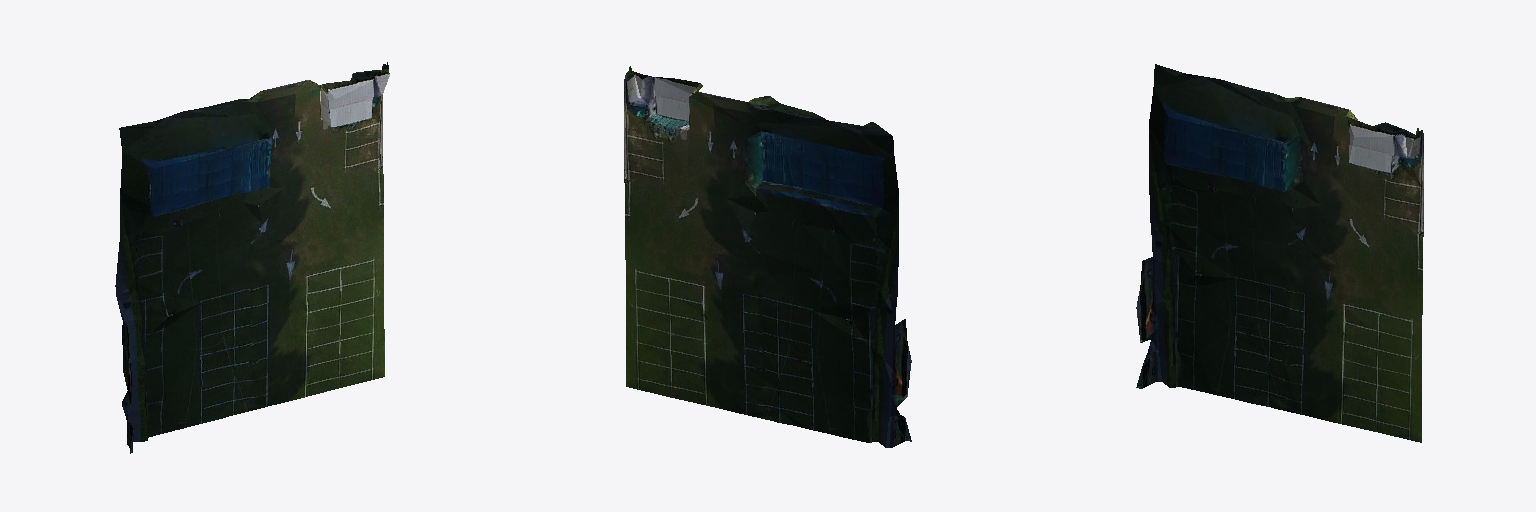
3 renders of one model, left to right at view 1: azimuth 30°, elevation 25°; view 2: azimuth 150°, elevation 25°; view 3: azimuth 330°, elevation 25°, orthographic.
Visible parts, largest first — view 1: obj_0; view 2: obj_0; view 3: obj_0.
Part boxes in pixels (x1,y1,x2,y2): obj_0: (115, 62, 389, 453); obj_0: (624, 66, 911, 447); obj_0: (1136, 64, 1423, 442).
Bounding box in the file's own units: 40.15 × 45.09 × 4.51.
Materials: 1 (1 with a texture image).